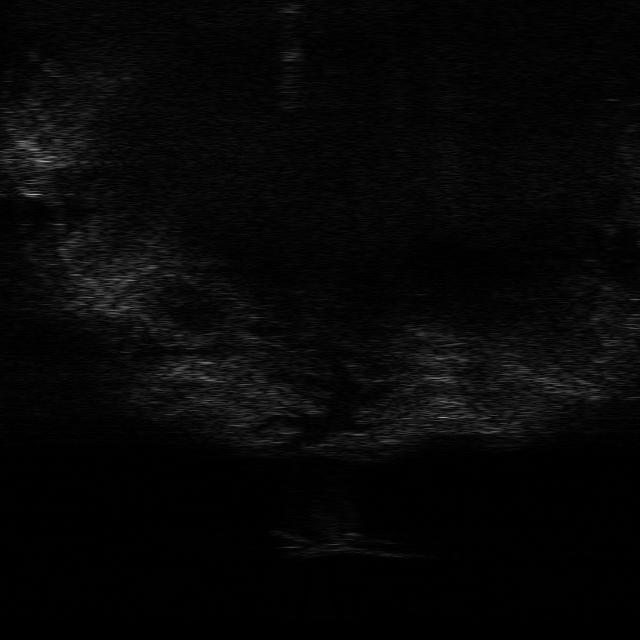plane: (270, 528, 422, 560)
